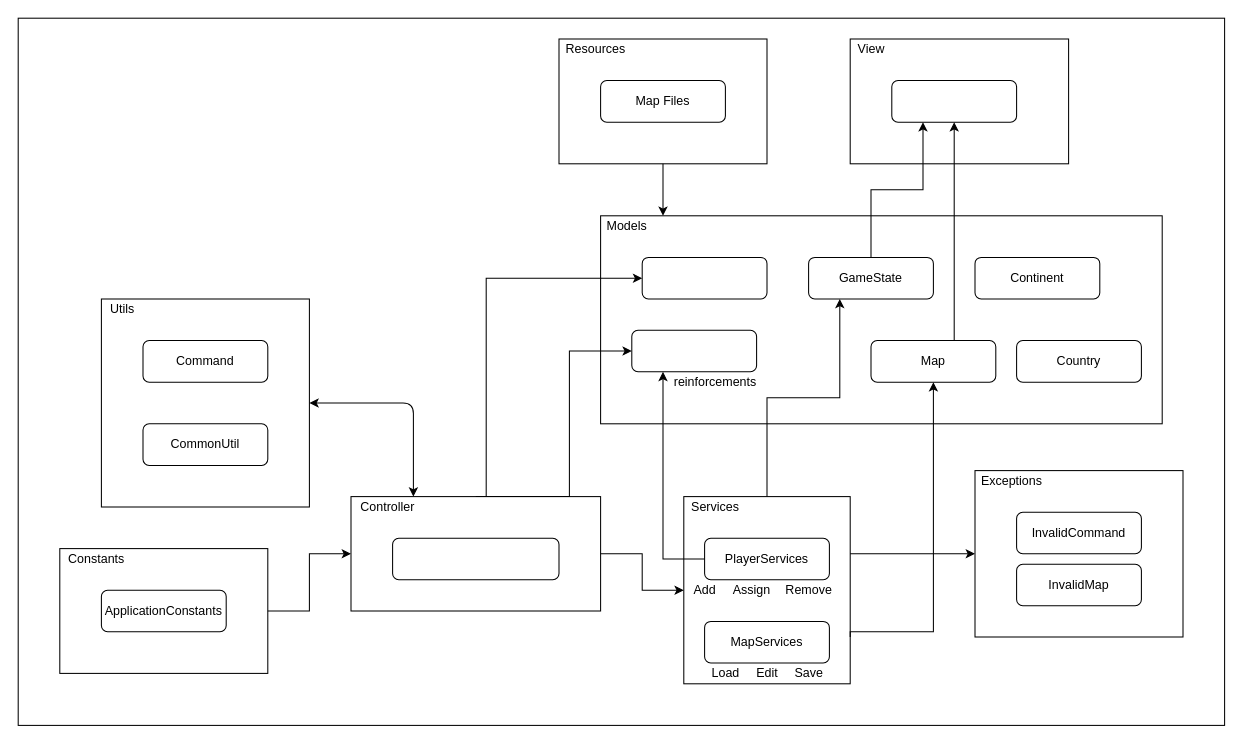
Image size: 1243x744. Some labels were removed from this diagram. Here are the shapes that lost their labels. From the top down, the centre of each, then its label:
(x=954, y=101): MapView
(x=704, y=277): Order
(x=694, y=350): Player
(x=475, y=558): GameEngineController
